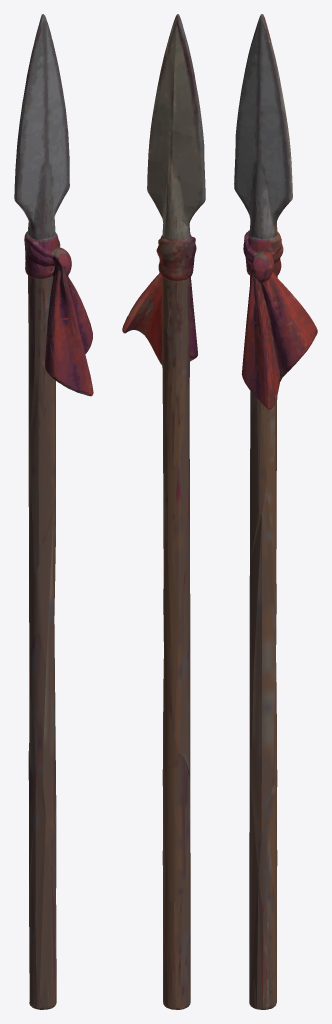
File: spear.glb
The picture shows the model from 3 angles, left to right: view 1: azimuth 30°, elevation 25°; view 2: azimuth 150°, elevation 25°; view 3: azimuth 330°, elevation 25°; orthographic projection.
Size of the model in its own units: 0.1479 by 1.9 by 0.1238.
Materials: 1 (1 with a texture image).
